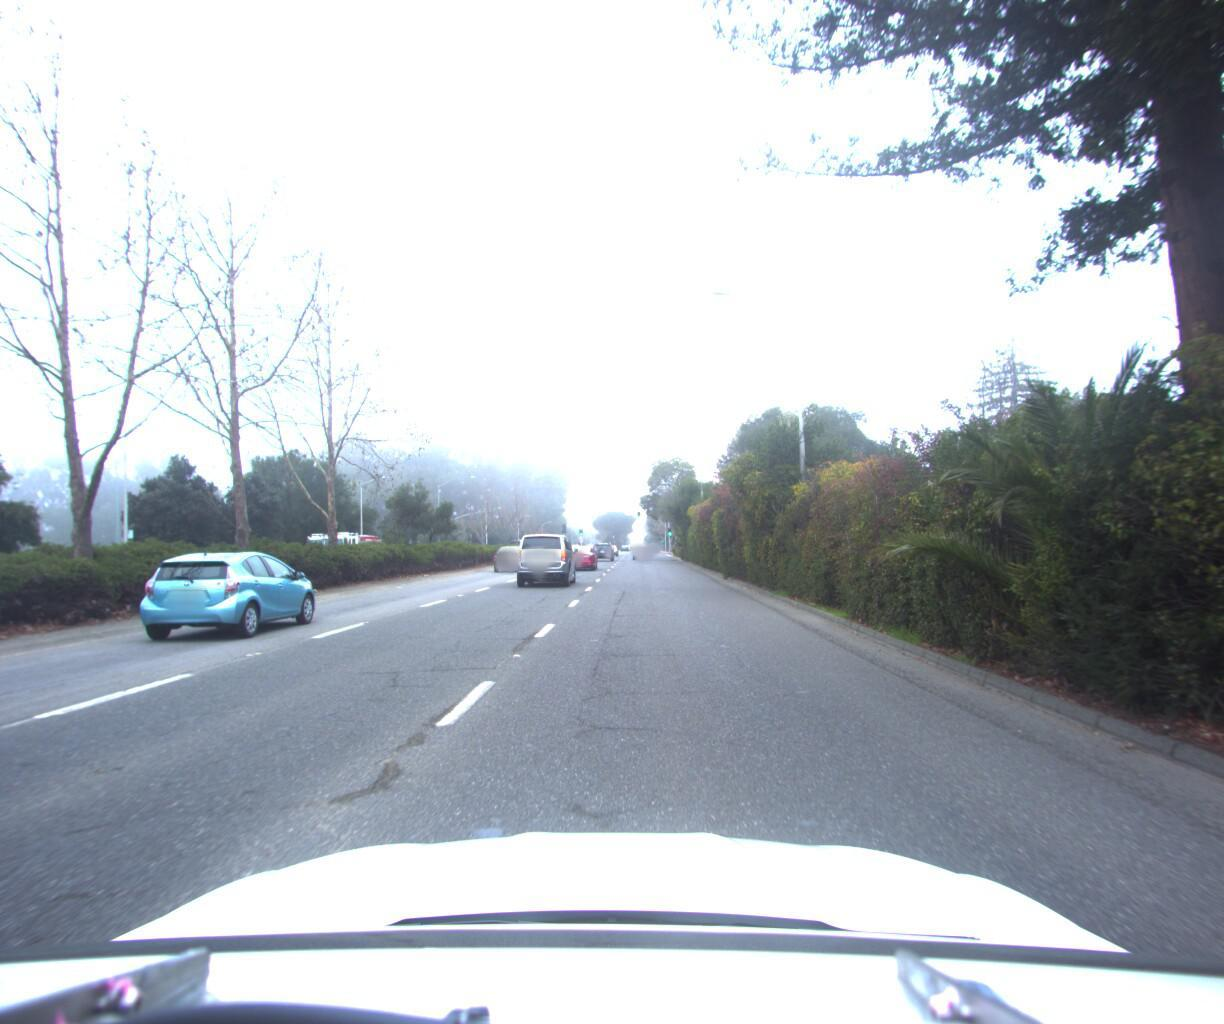car: (133, 544, 333, 638), (507, 527, 578, 586), (488, 540, 531, 568), (562, 538, 600, 565), (593, 535, 615, 555), (631, 534, 651, 553)
emergency_vehicle: (307, 526, 389, 566)
